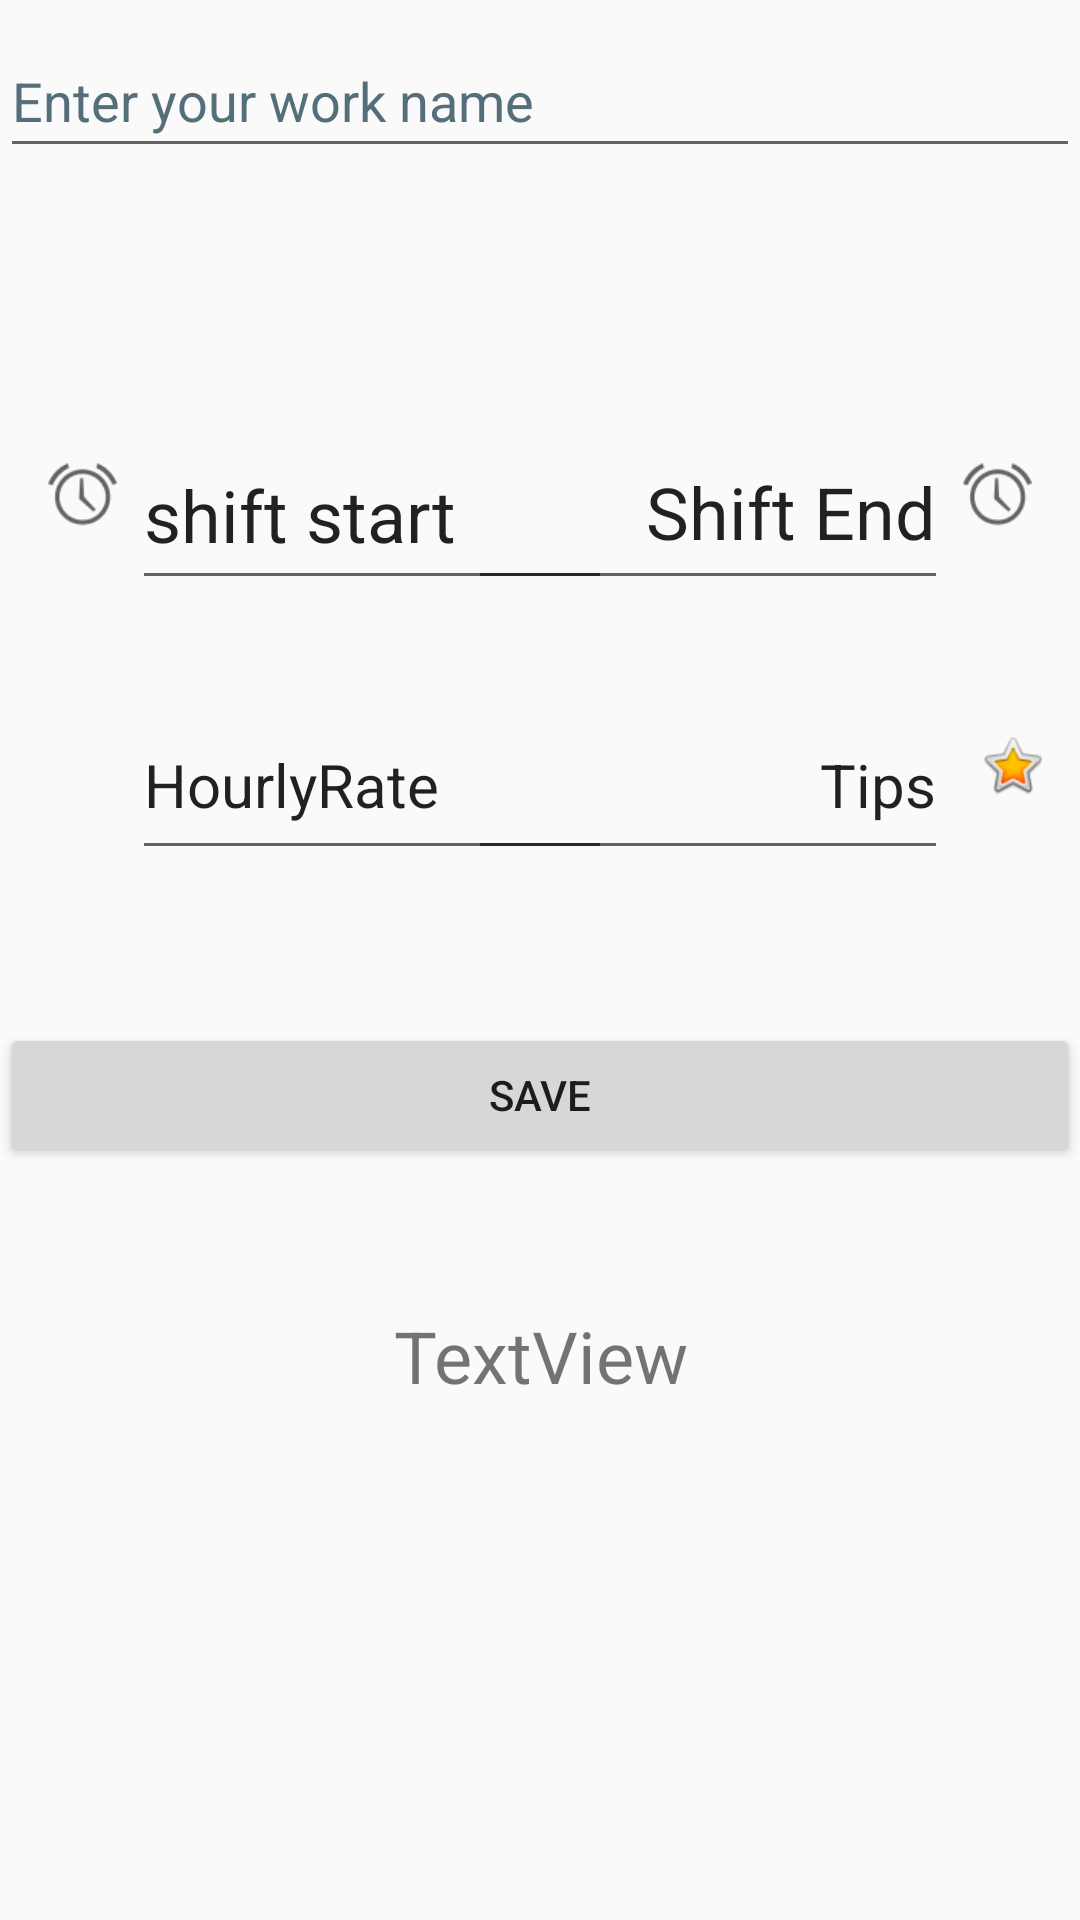

Icons on this 1080px×1920px Android screen, each with its box as (x1, y1, x2, y2):
lock idle alarm: (963, 463, 1032, 526)
